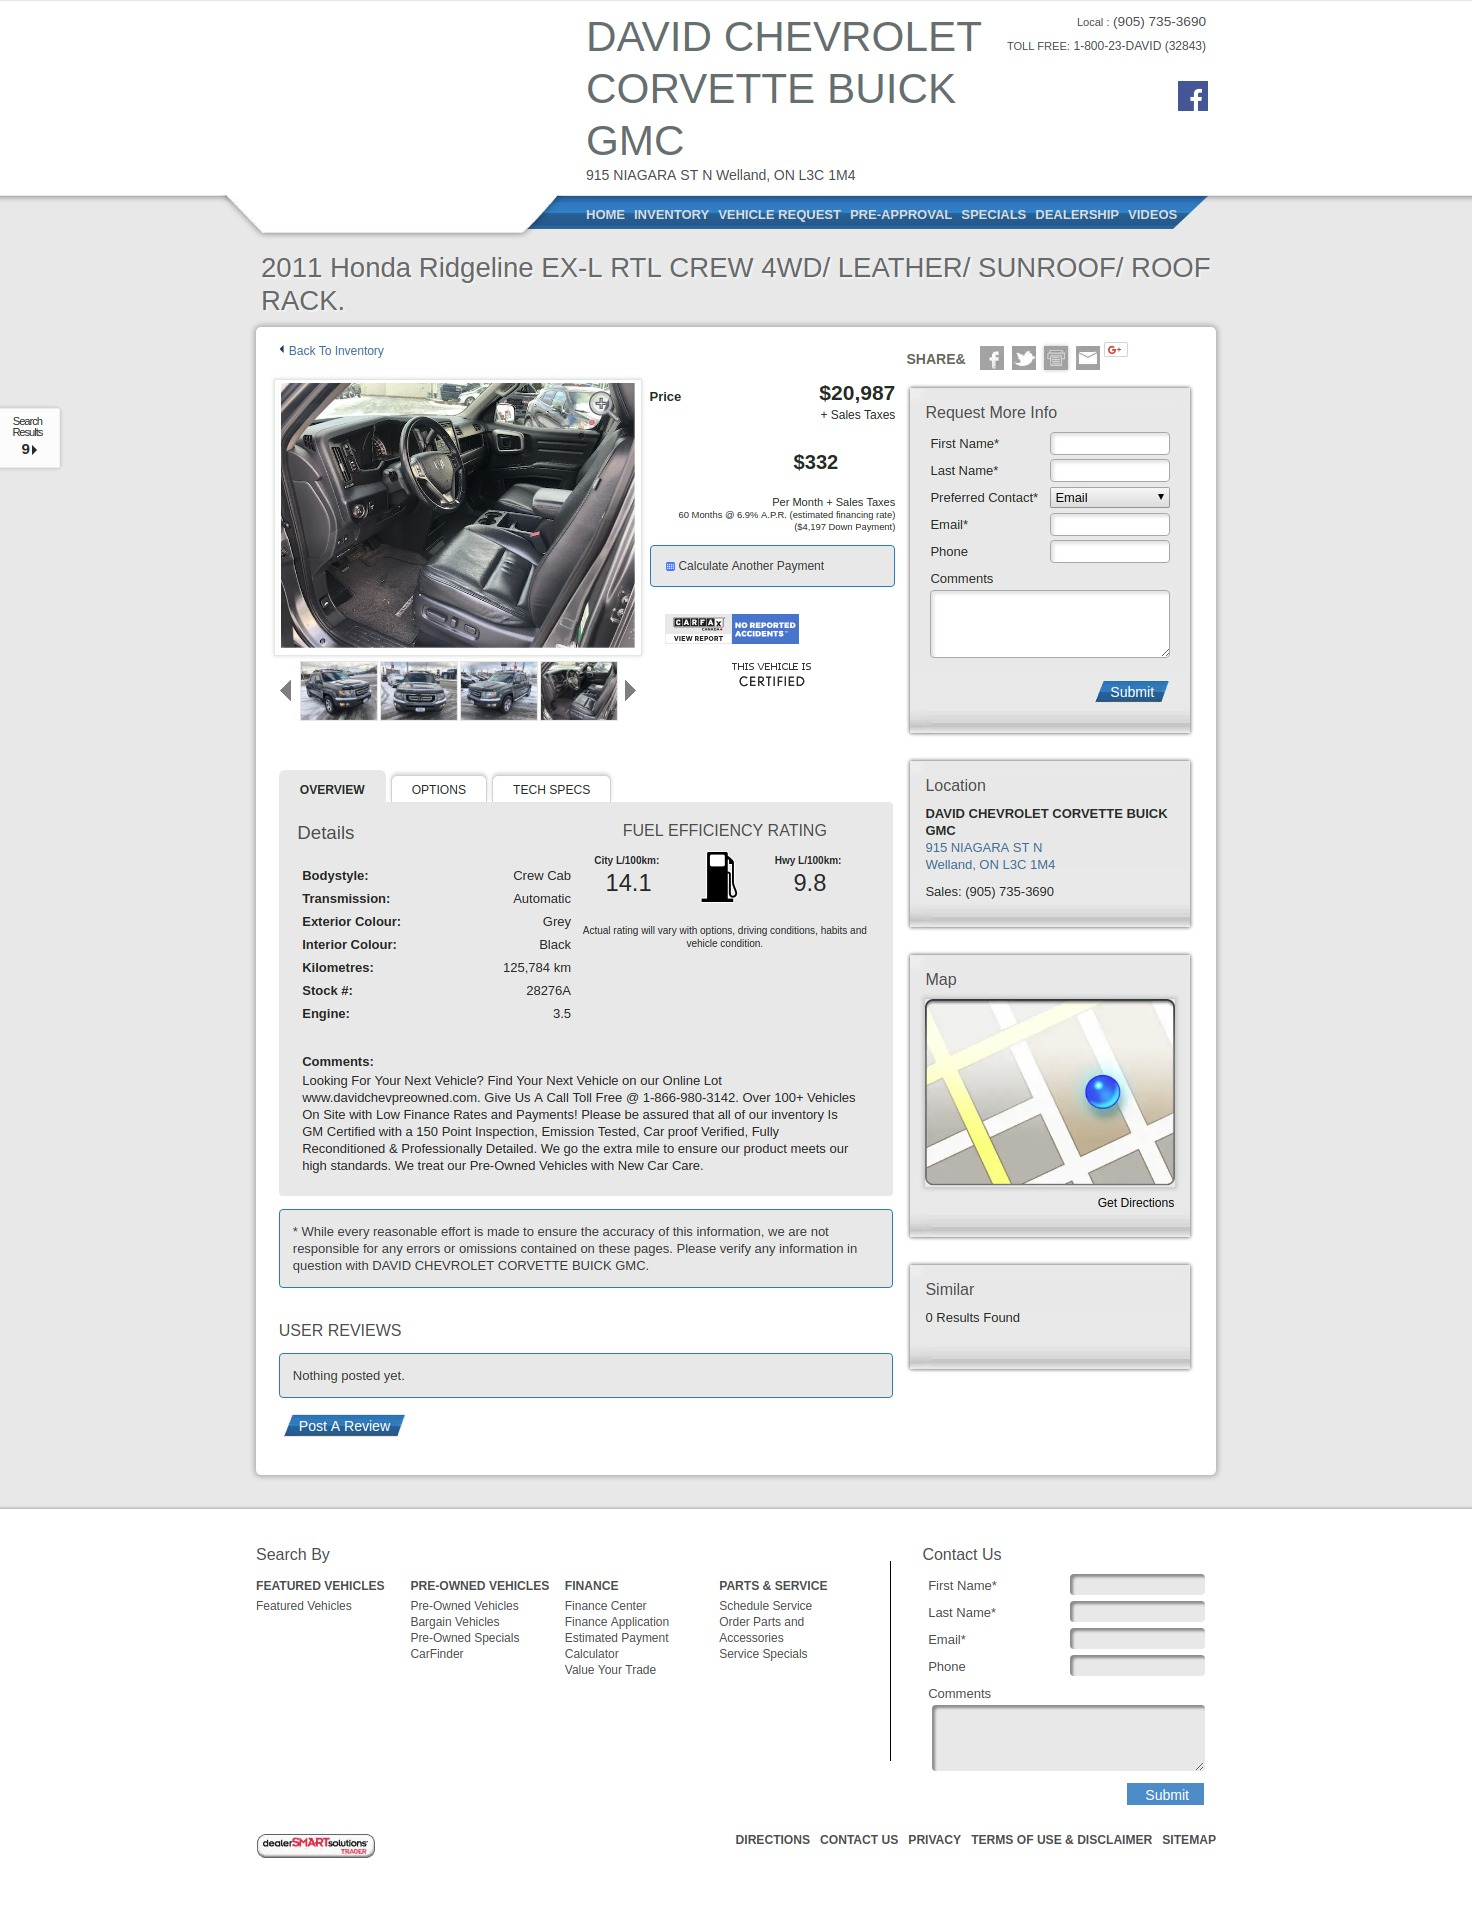car: (625, 681, 637, 704)
